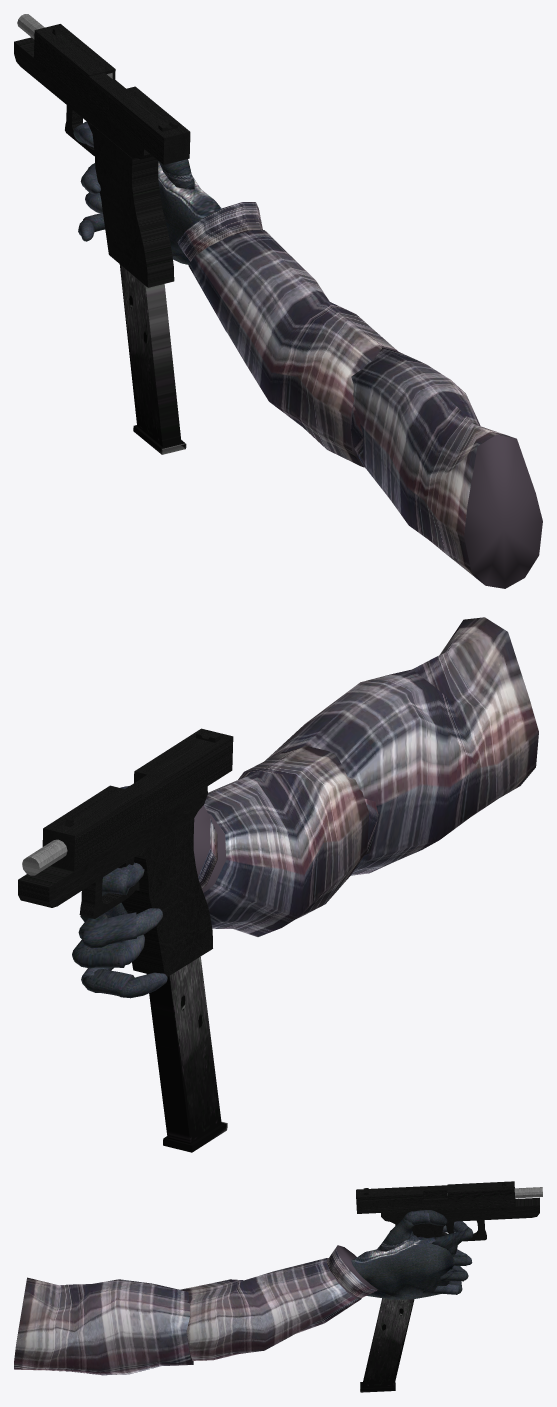
The model's file is glock18_vfire.fbx.
3 renders of one model, top to bottom at view 1: azimuth 30°, elevation 25°; view 2: azimuth 150°, elevation 25°; view 3: azimuth 270°, elevation 25°, orthographic. The views are drawn at different scales.
Visible parts, largest first — view 1: rupperarm, rforearm, glock_grip, glock_slide, glock_clip, glock_body, rhand, rthumbback; view 2: rupperarm, rforearm, glock_slide, glock_clip, glock_grip, glock_body, rmfingermiddle, glock_guard, rifingermiddle, rpinkymiddle, glock_barrel, rpinkyfront; view 3: rupperarm, rforearm, rhand, glock_slide, glock_clip, glock_body, rthumbback, rpfingerback, glock_grip, rthumbmiddle, glock_barrel.
Part boxes in pixels (x1,y1,x2,y2): rupperarm: [351, 347, 542, 588]; rforearm: [177, 202, 399, 467]; glock_grip: [86, 120, 174, 287]; glock_slide: [33, 24, 190, 164]; glock_clip: [119, 264, 186, 454]; glock_body: [14, 37, 152, 159]; rhand: [158, 163, 221, 264]; rthumbback: [158, 159, 194, 189]; rupperarm: [265, 617, 538, 875]; rforearm: [193, 745, 369, 936]; glock_slide: [42, 728, 233, 871]; glock_clip: [147, 956, 227, 1152]; glock_grip: [121, 819, 212, 976]; glock_body: [18, 786, 207, 907]; rmfingermiddle: [81, 912, 136, 948]; glock_guard: [79, 877, 139, 918]; rifingermiddle: [73, 942, 125, 968]; rpinkymiddle: [82, 969, 134, 997]; glock_barrel: [22, 839, 67, 875]; rpinkyfront: [117, 972, 167, 998]; rupperarm: [14, 1277, 193, 1375]; rforearm: [180, 1245, 377, 1360]; rhand: [351, 1239, 455, 1299]; glock_slide: [356, 1181, 515, 1213]; glock_clip: [360, 1298, 414, 1392]; glock_body: [381, 1197, 539, 1223]; rthumbback: [377, 1217, 435, 1251]; rpfingerback: [432, 1227, 472, 1256]; glock_grip: [395, 1221, 450, 1237]; rthumbmiddle: [404, 1210, 430, 1225]; glock_barrel: [447, 1187, 542, 1198].
Size of the model in its own units: 5 by 12.23 by 28.4.
